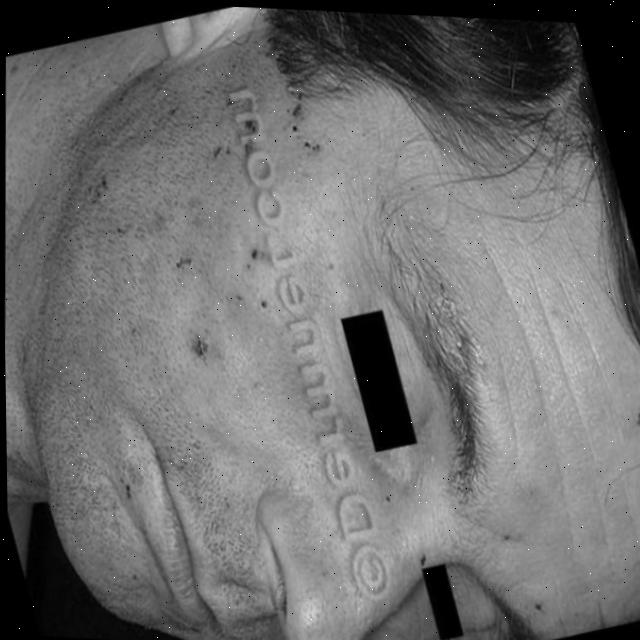Eczema: (133, 123, 325, 360), (4, 270, 20, 330)
